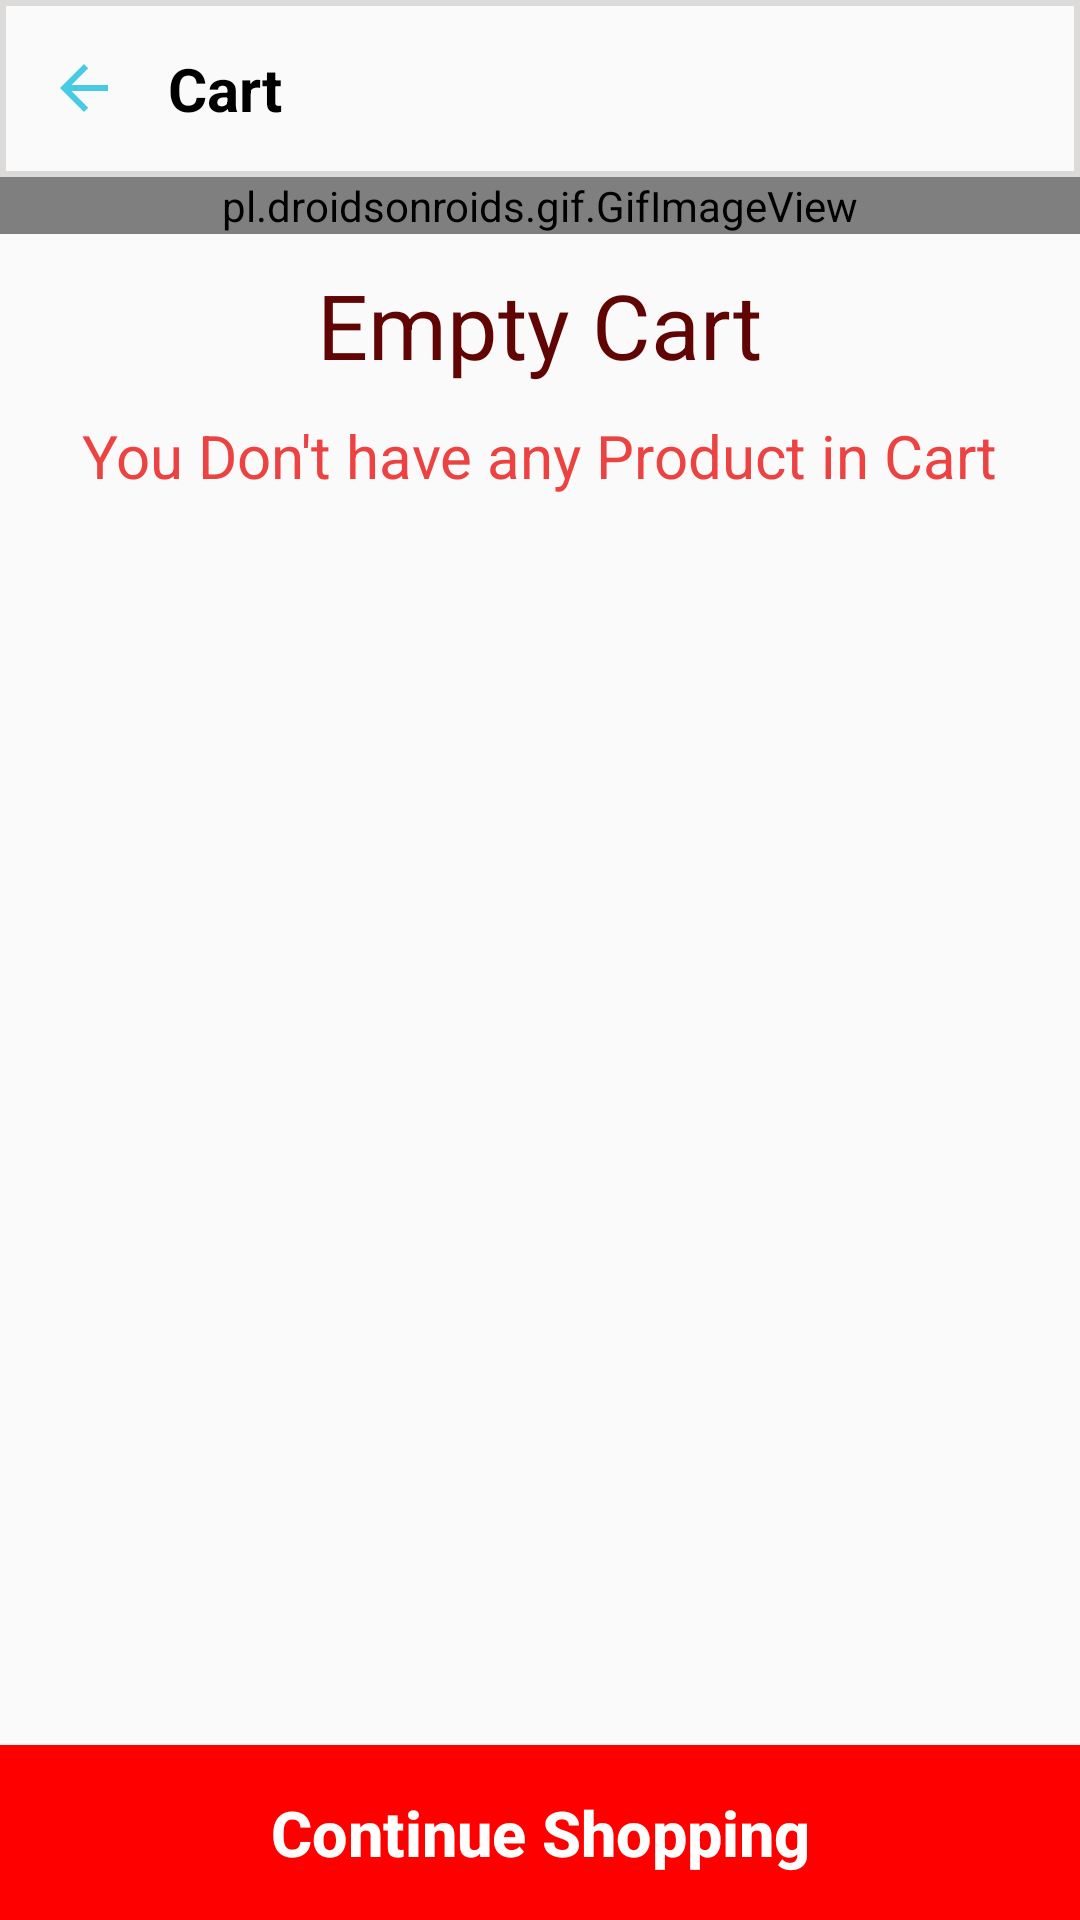

Where icons sit on this 1080*1920 app screen, as (x1, y1, x2, y2):
arrow back: (60, 64, 108, 112)
